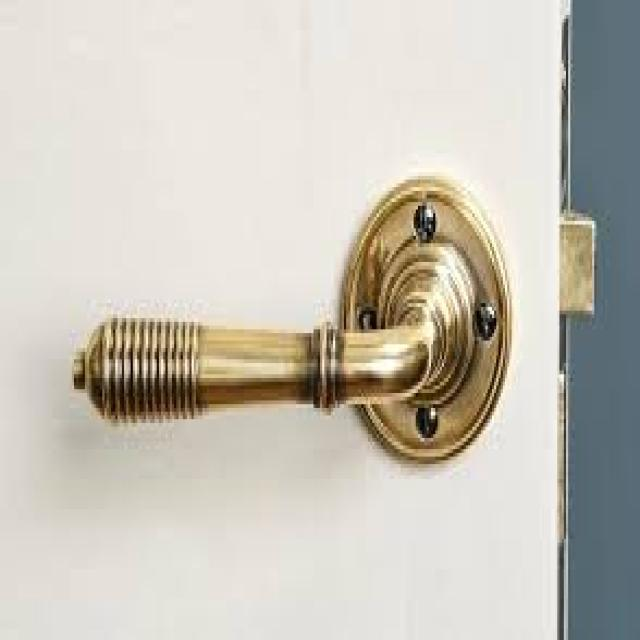Dry: (69, 163, 510, 517)
